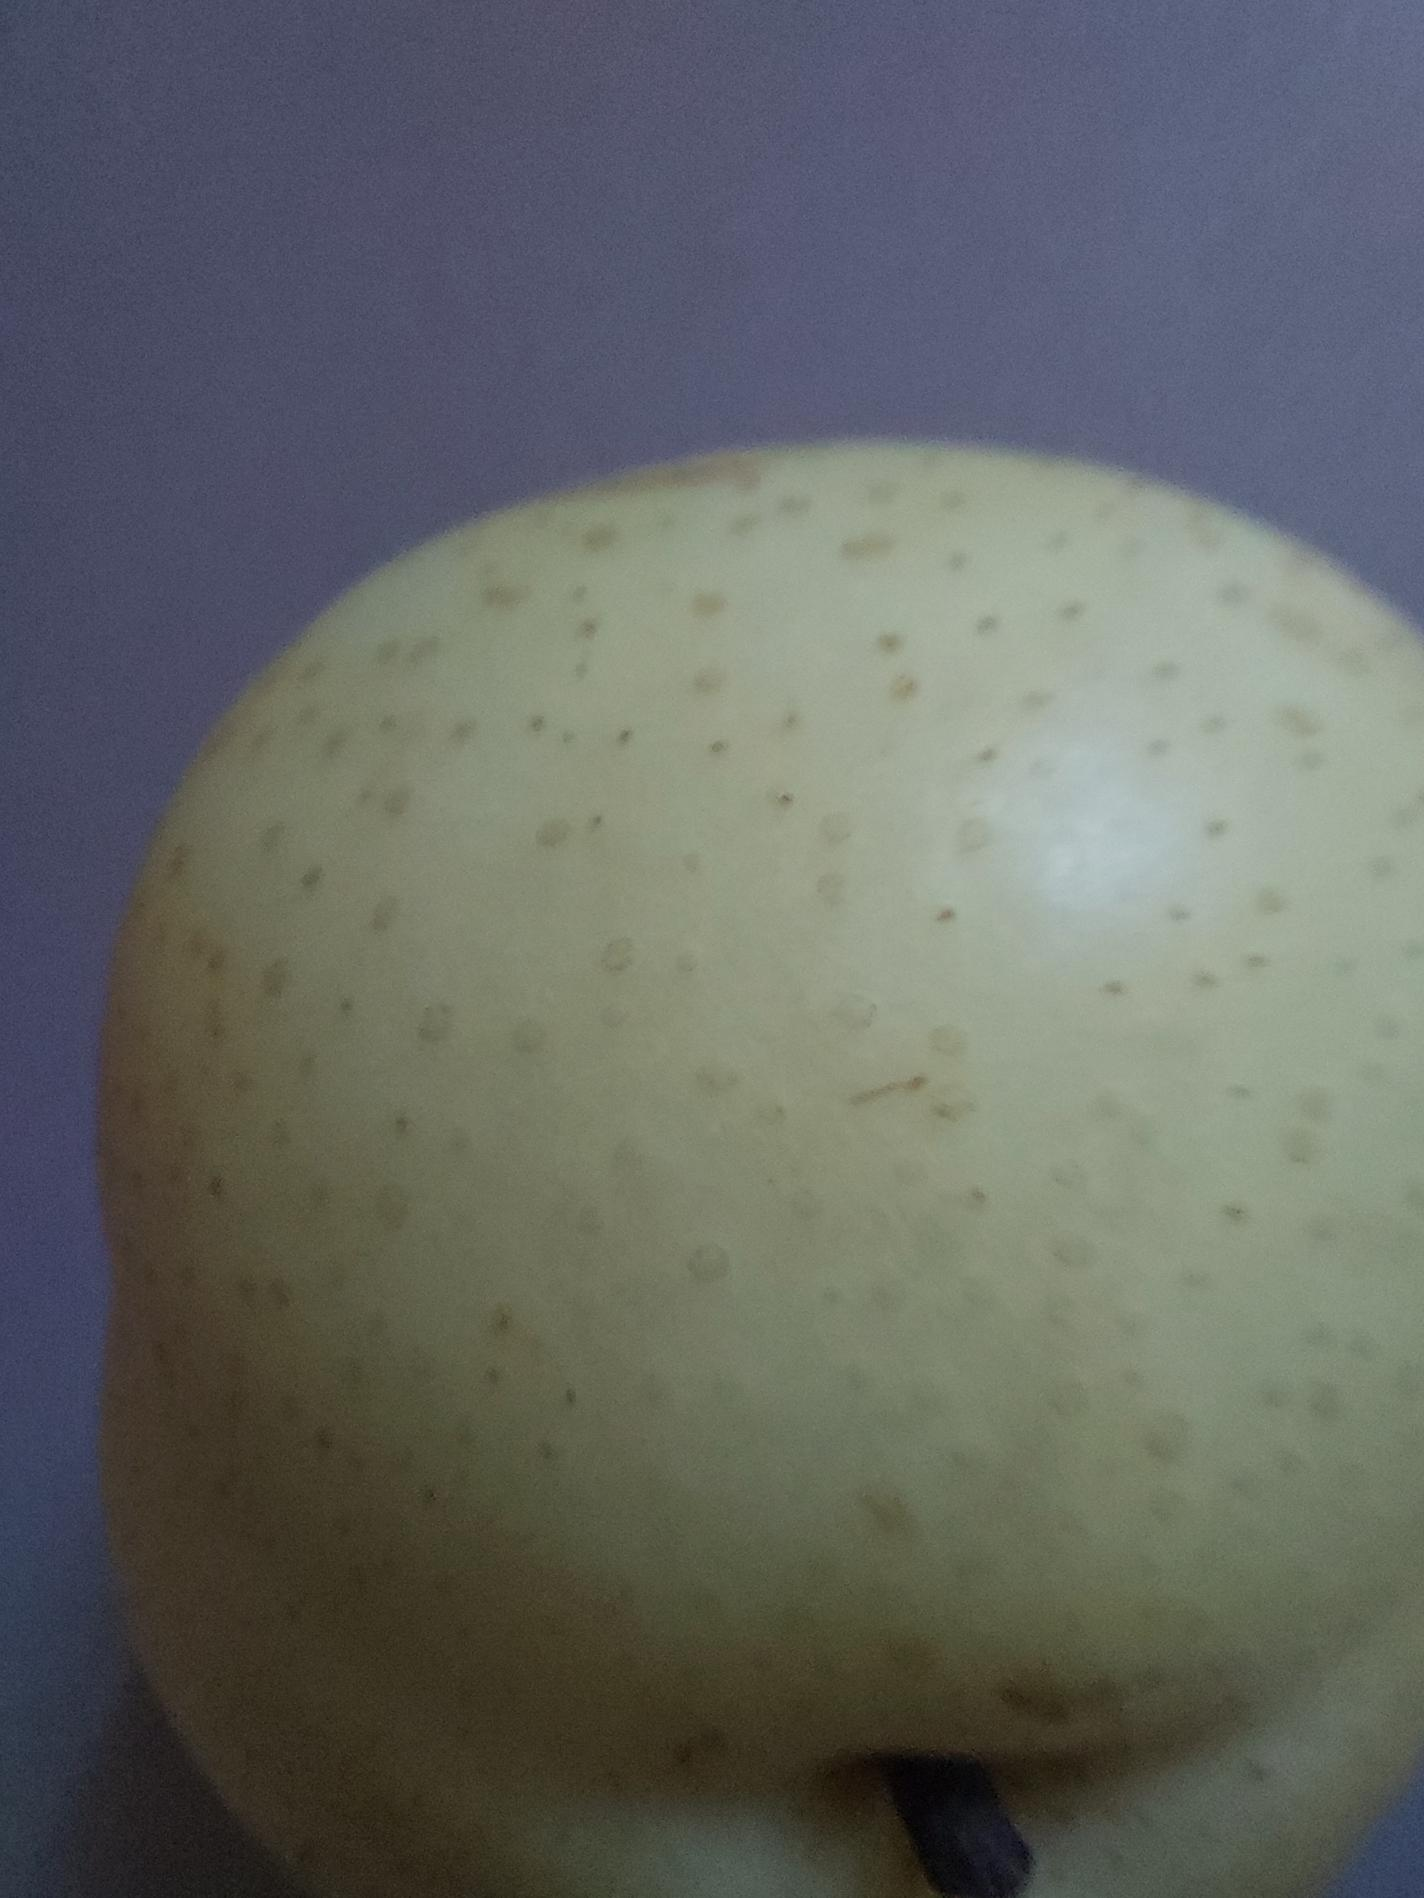Good Pear: (61, 341, 1424, 1898)
